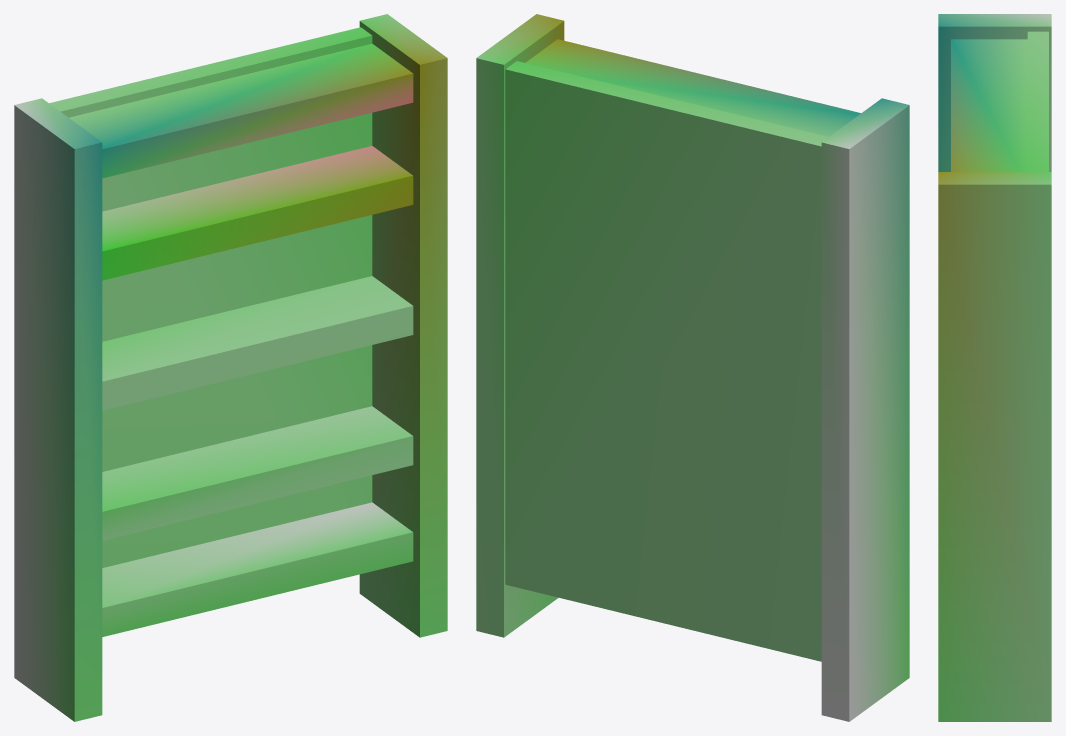
The model's file is Shelf_1.fbx.
3 views of the same model, side by side, from view 1: azimuth 30°, elevation 25°; view 2: azimuth 150°, elevation 25°; view 3: azimuth 270°, elevation 25° (orthographic). The views are drawn at different scales.
Visible parts, largest first — view 1: Shelf_1; view 2: Shelf_1; view 3: Shelf_1.
Part boxes in pixels (left/top/right/bottom): Shelf_1: left=14, top=14, right=447, bottom=721; Shelf_1: left=476, top=14, right=909, bottom=721; Shelf_1: left=938, top=14, right=1051, bottom=721.
Size of the model in its own units: 1.5 by 2.2 by 0.42.
